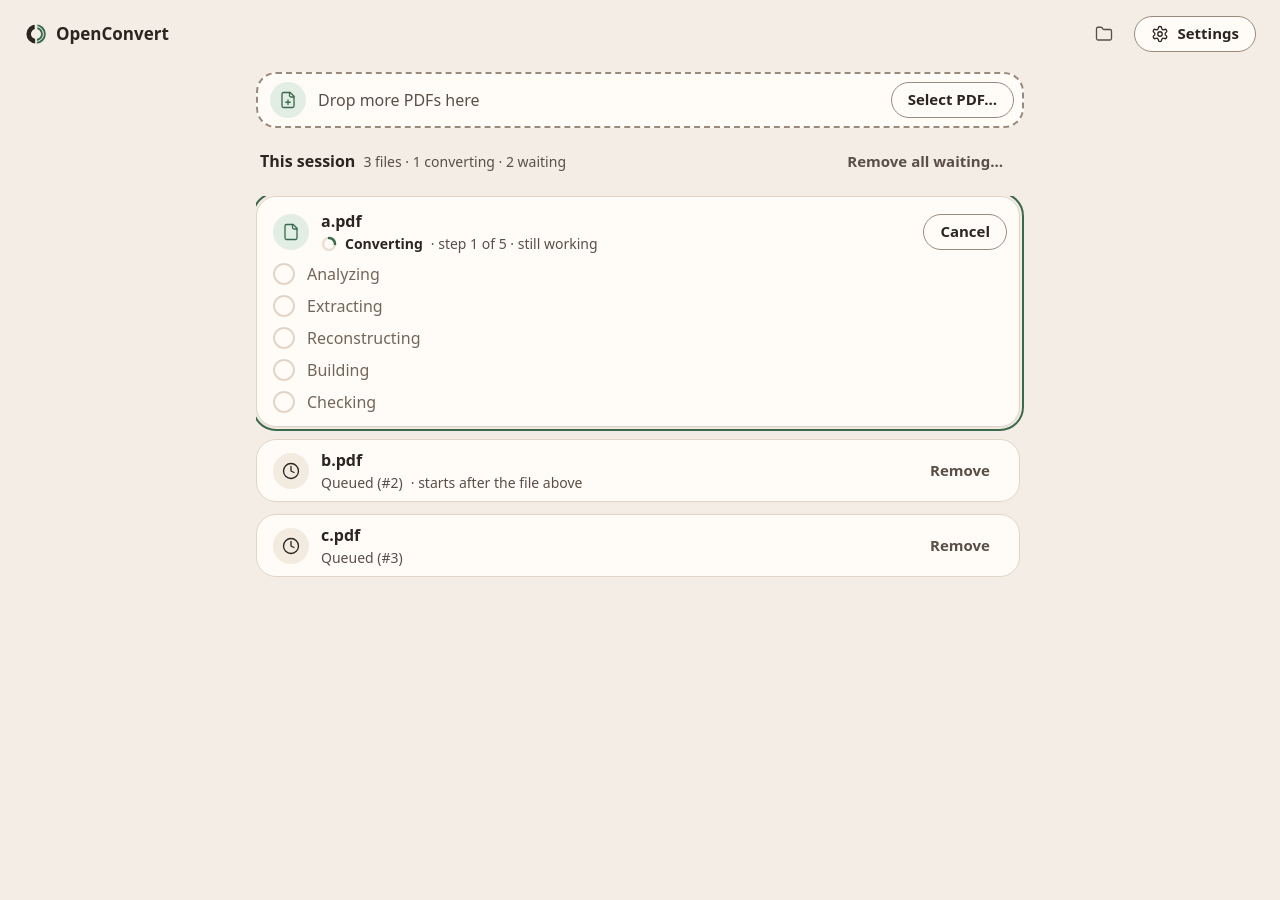
Test: queue route › arrows move between rows; Delete removes a waiting row; Remove all waiting asks once
Press ArrowDown in the list item with aria-label "a.pdf, Converting", box [256,196,1020,427]
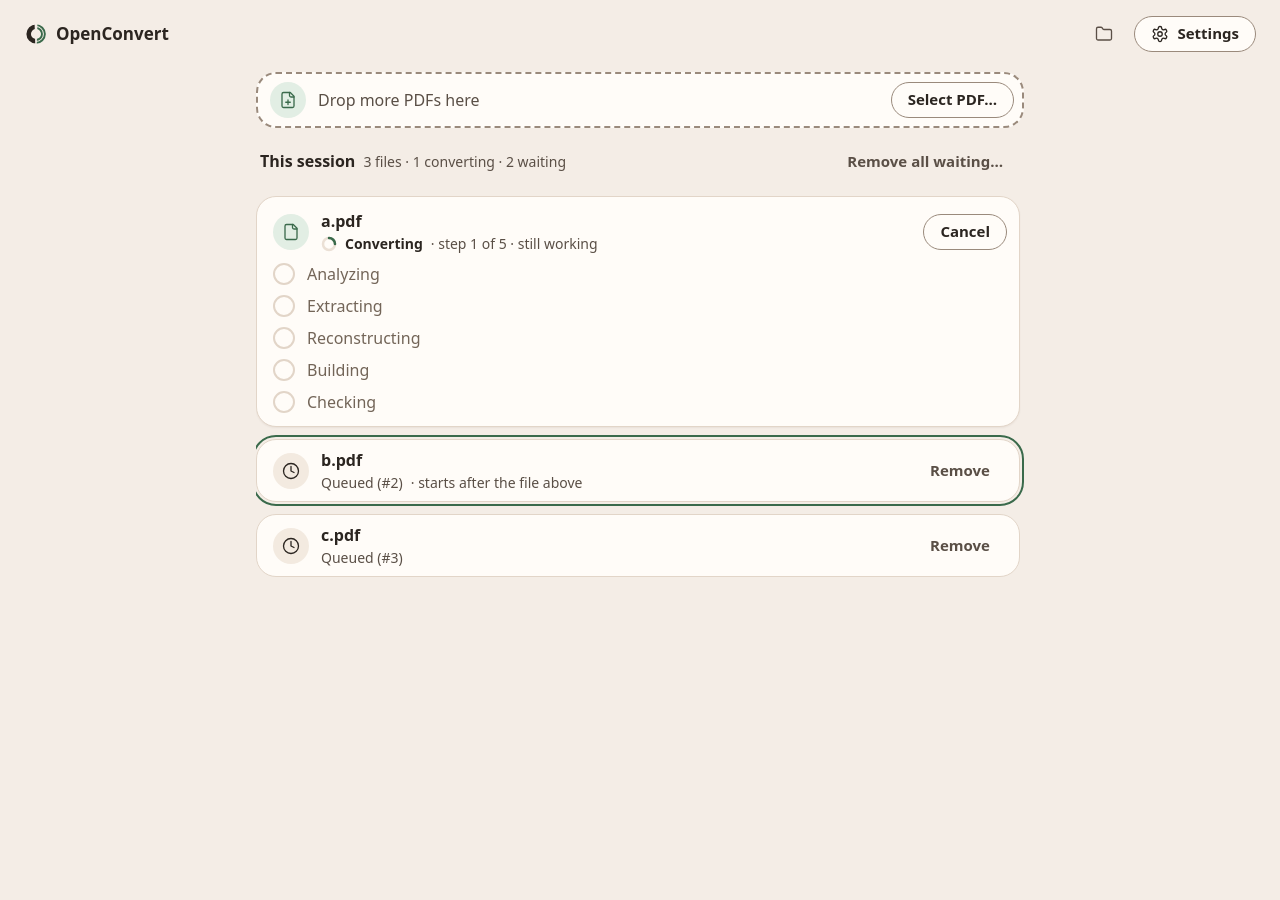
Press Delete in the list item "b.pdf Queued (#2) · starts after the file above Remove", box [256,439,1020,502]
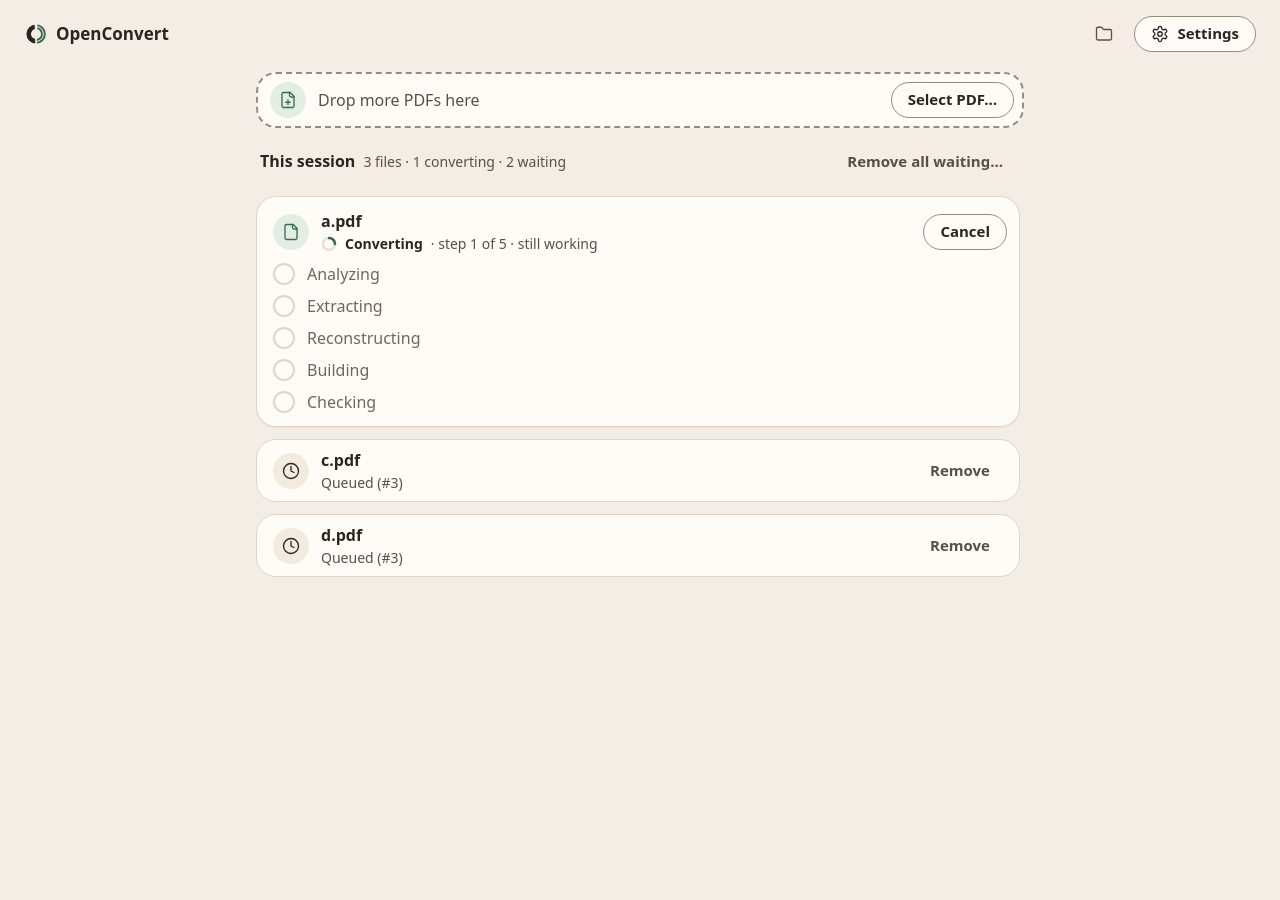
Click the button "Remove all waiting…" at {"x": 925, "y": 162}, box [830,144,1020,180]
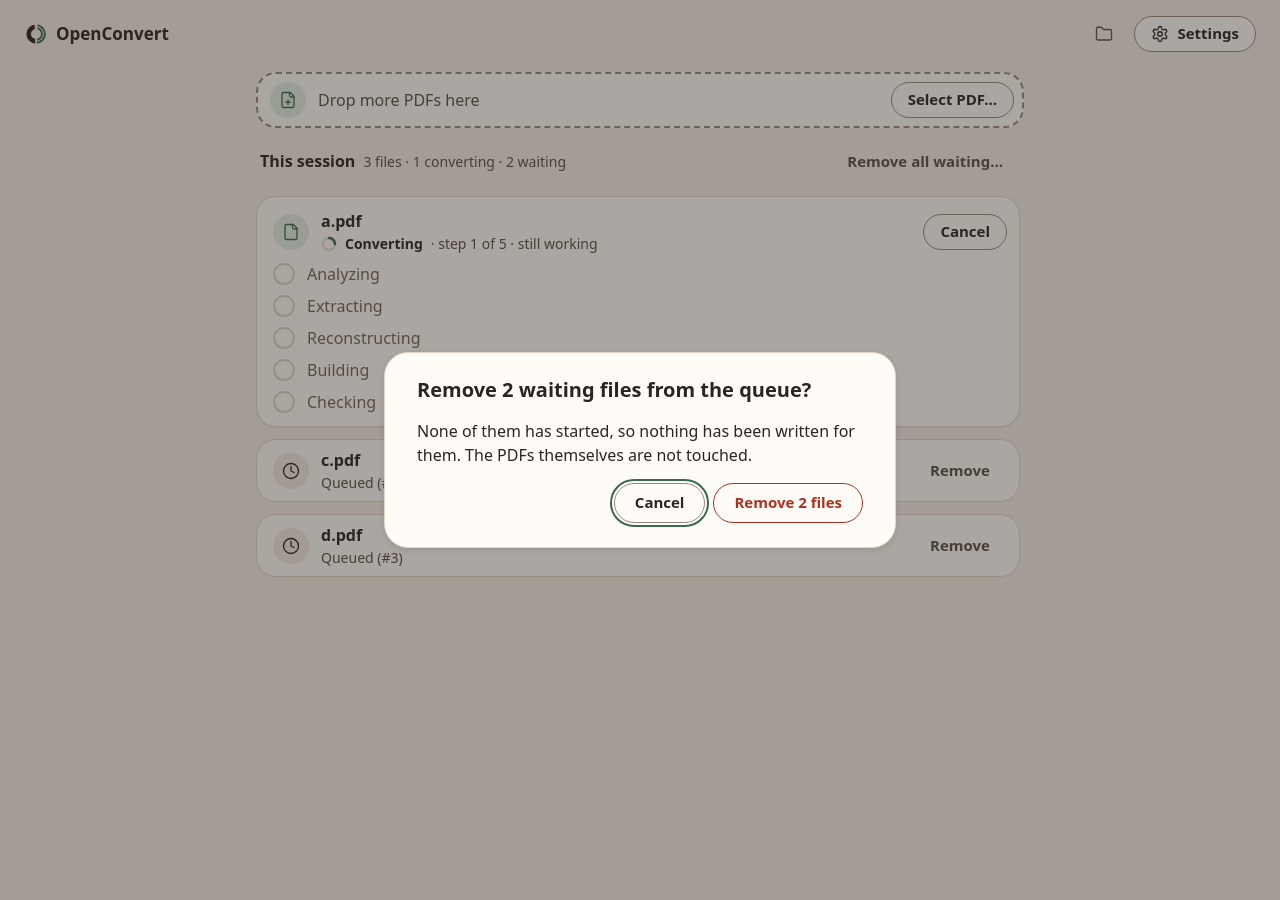
Result: the dialog shows "Remove 2 waiting files from the queue?" at [417,376,811,403]
Result: the button "Cancel" is shown at [614,483,705,523]
